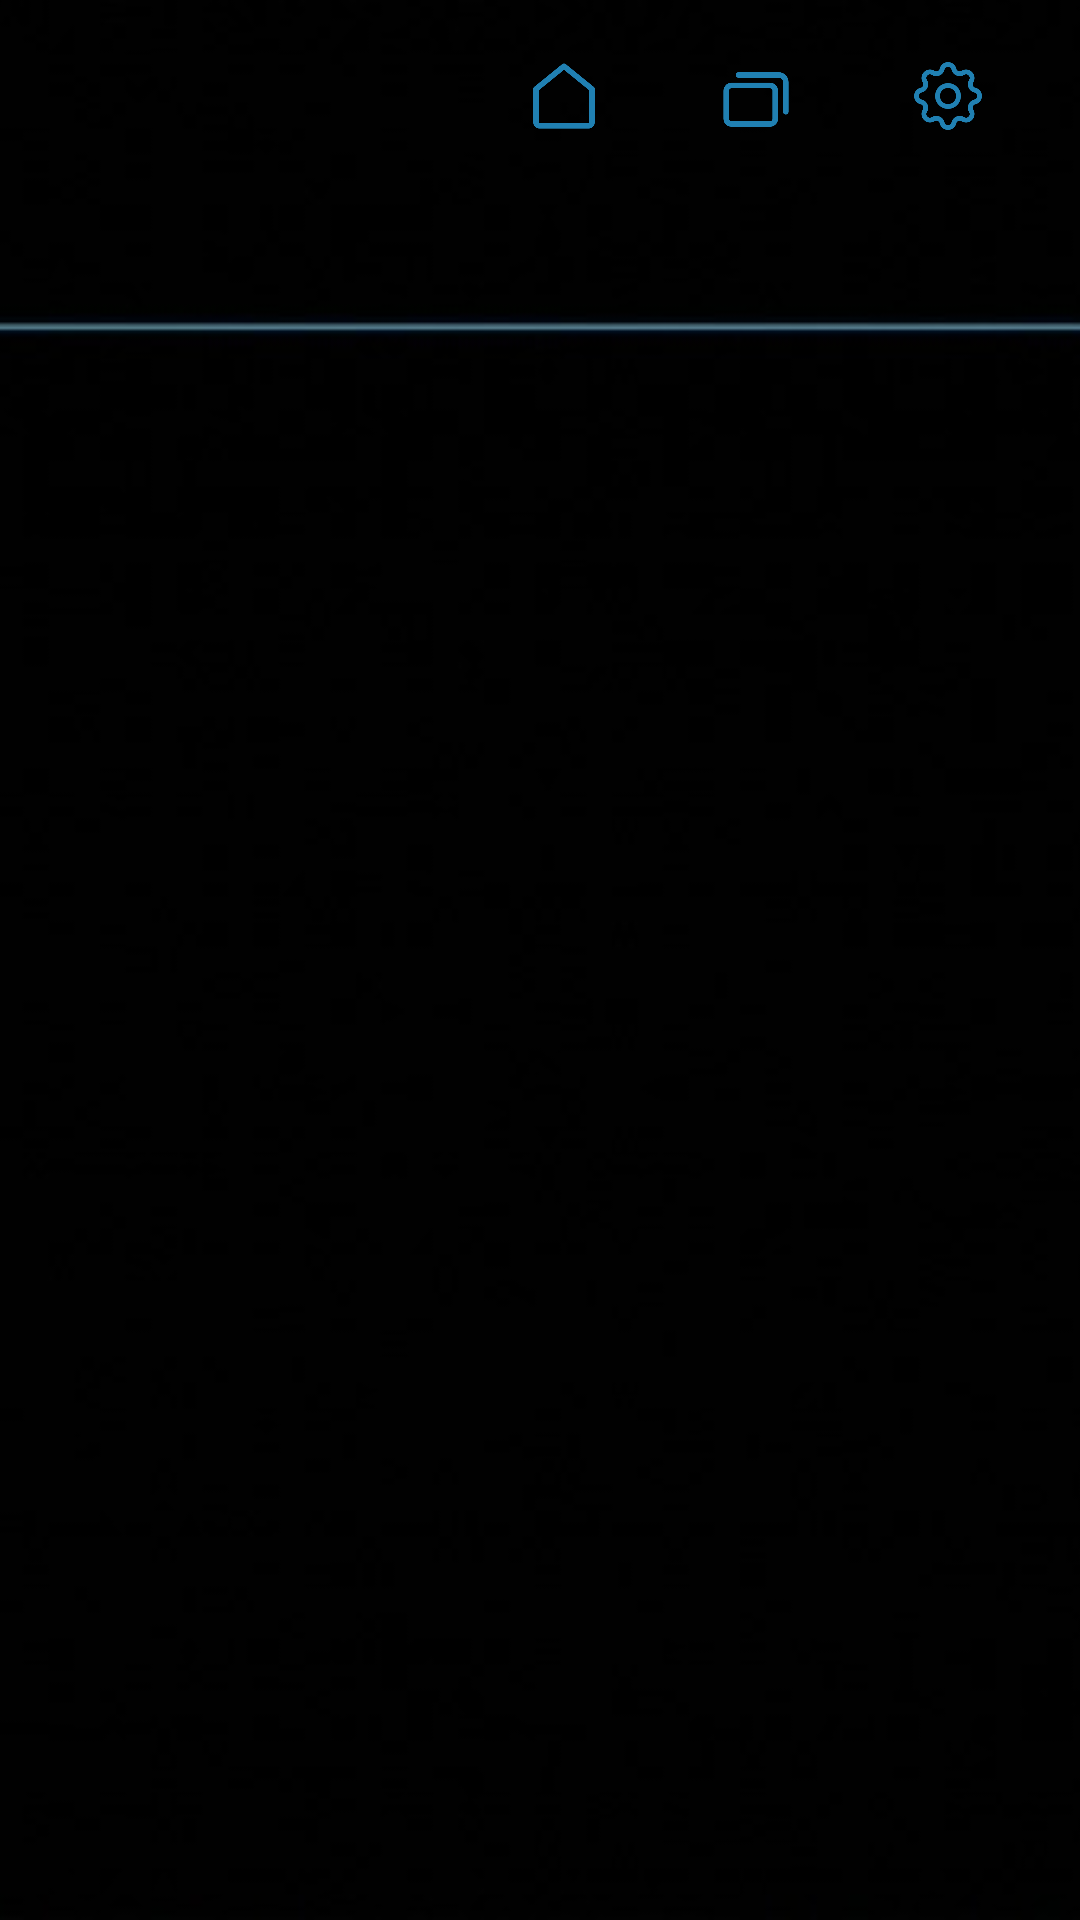

Screen size 1080w x 1920h. Icon name, then its box in pixels as [x1, y1, x2, y2]:
Home: [533, 63, 595, 129]
Recent apps: [723, 72, 789, 127]
Settings: [914, 62, 982, 130]
